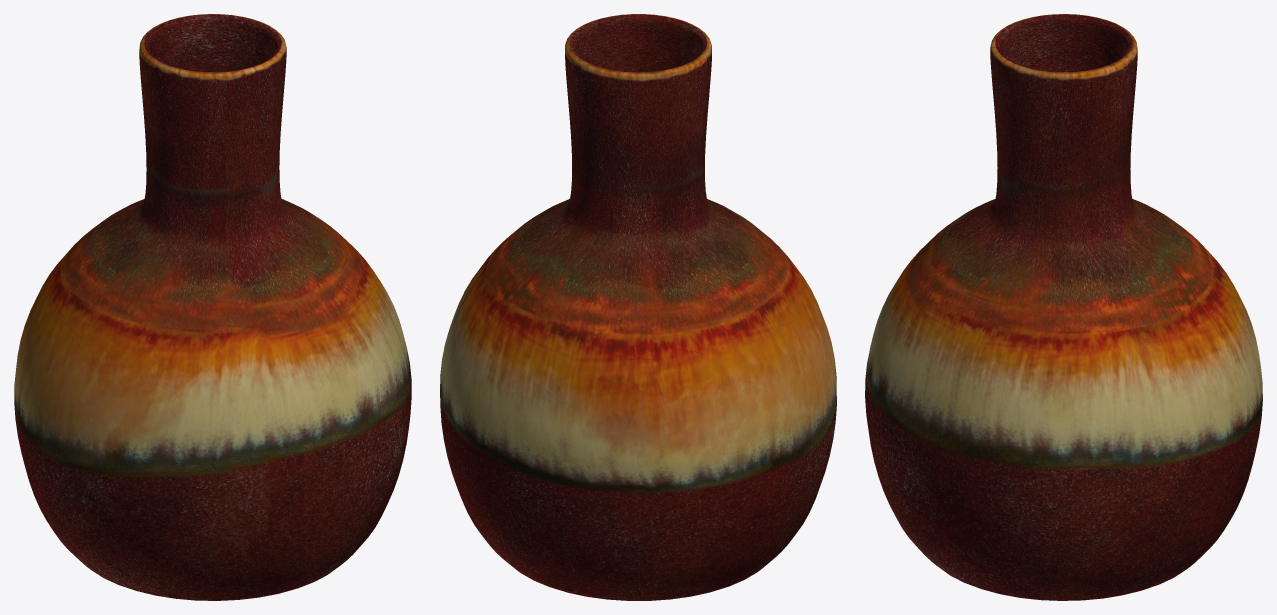
The model's file is B07B8VJBCL.glb.
The picture shows the model from 3 angles, left to right: view 1: azimuth 30°, elevation 25°; view 2: azimuth 150°, elevation 25°; view 3: azimuth 270°, elevation 25°; orthographic projection.
Visible parts, largest first — view 1: RootNode; view 2: RootNode; view 3: RootNode.
Boxes of the visible parts, <box> form: RootNode: <box>14,14,411,600</box>; RootNode: <box>440,14,836,600</box>; RootNode: <box>865,14,1262,600</box>.
Size of the model in its own units: 0.1108 by 0.1544 by 0.1109.
1 material, 1 textured.
